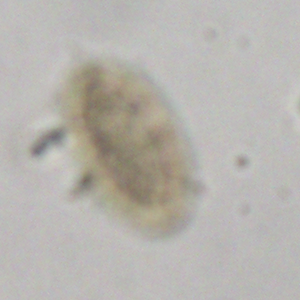Fasciola_hepatica_egg: (64, 55, 198, 241)
